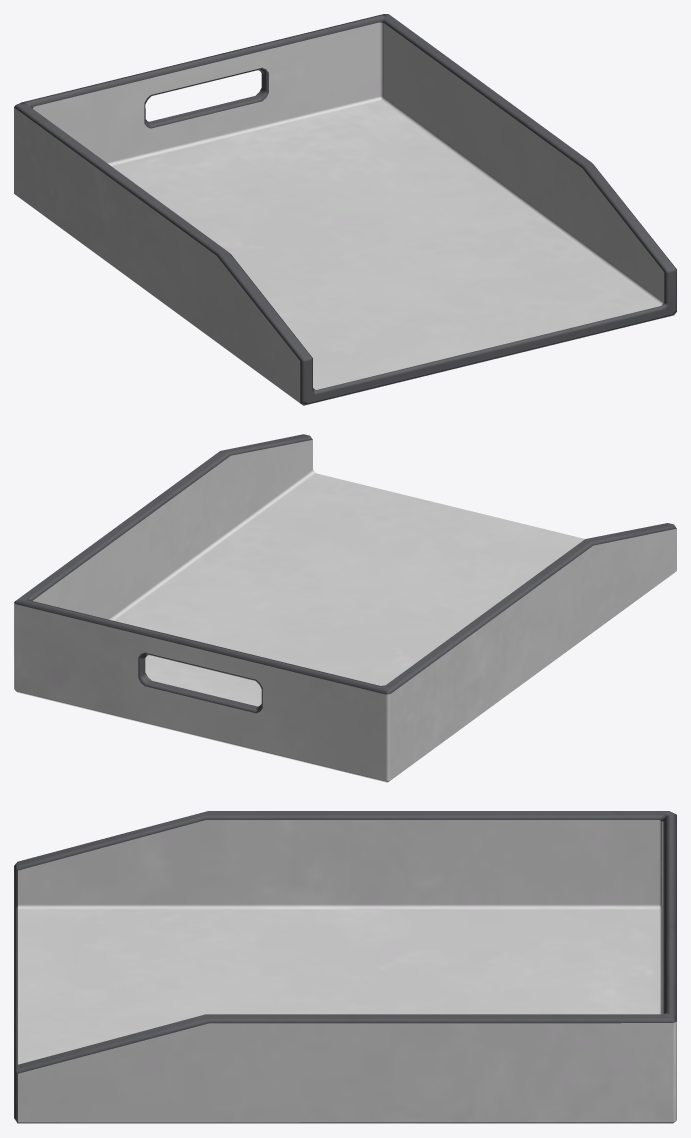
File: SM_Counter_Tray_01a.glb
3 views of the same model, one above another, from view 1: azimuth 30°, elevation 25°; view 2: azimuth 150°, elevation 25°; view 3: azimuth 270°, elevation 25° (orthographic). The views are drawn at different scales.
Parts seen in each view (by area): view 1: SM_Counter_Tray_01a; view 2: SM_Counter_Tray_01a; view 3: SM_Counter_Tray_01a.
Boxes of the visible parts, <box> form: SM_Counter_Tray_01a: <box>14,14,676,405</box>; SM_Counter_Tray_01a: <box>14,434,676,782</box>; SM_Counter_Tray_01a: <box>14,811,676,1123</box>.
Size of the model in its own units: 0.255 by 0.06 by 0.34.
1 material, 1 textured.
